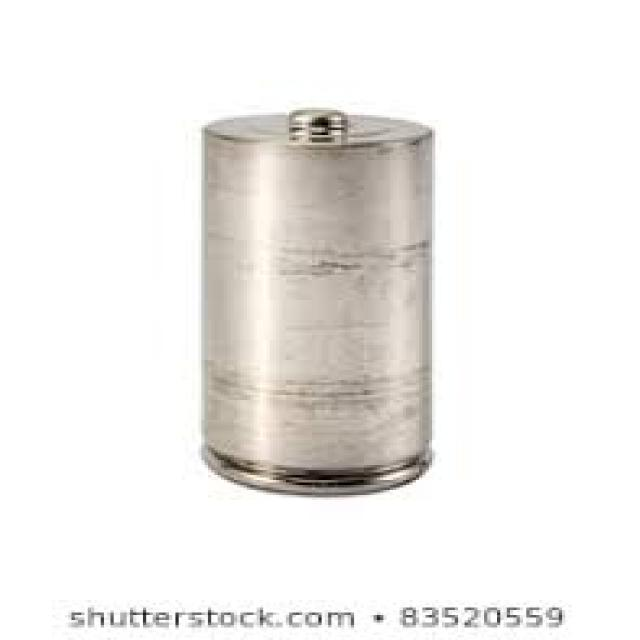non-organic waste: (196, 99, 436, 500)
